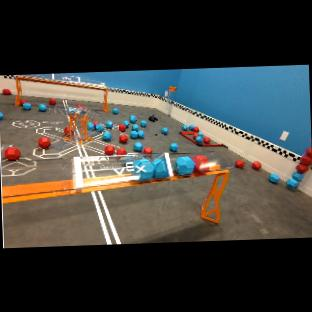V5_BLUE: (118, 114, 145, 138), (174, 154, 194, 173), (87, 117, 113, 131), (130, 114, 144, 138), (154, 154, 168, 176), (67, 104, 89, 115), (93, 120, 113, 131), (288, 171, 301, 187), (118, 120, 129, 131), (269, 171, 279, 183), (102, 130, 112, 139), (195, 131, 203, 142), (119, 133, 128, 142), (134, 141, 143, 150), (103, 130, 112, 139), (138, 158, 151, 164), (120, 132, 128, 141), (170, 142, 178, 150), (22, 101, 30, 109), (39, 102, 46, 110), (144, 146, 152, 153), (170, 142, 177, 149), (140, 119, 147, 126), (161, 126, 168, 133), (161, 126, 169, 132), (140, 119, 146, 126), (162, 126, 168, 133), (142, 171, 152, 175), (182, 124, 188, 130), (0, 108, 3, 119), (113, 108, 119, 113), (65, 126, 69, 133), (189, 124, 194, 129)
V5_RED: (297, 145, 312, 171), (291, 166, 310, 186), (4, 145, 19, 159), (198, 154, 206, 169), (106, 144, 115, 153), (39, 138, 49, 146), (119, 130, 127, 140), (202, 135, 209, 143), (236, 160, 243, 167), (253, 161, 261, 167), (20, 98, 28, 104), (3, 88, 10, 94), (49, 98, 55, 104)
blueingoal: (132, 156, 173, 178), (174, 155, 195, 174)
redingoal: (192, 154, 209, 172)
